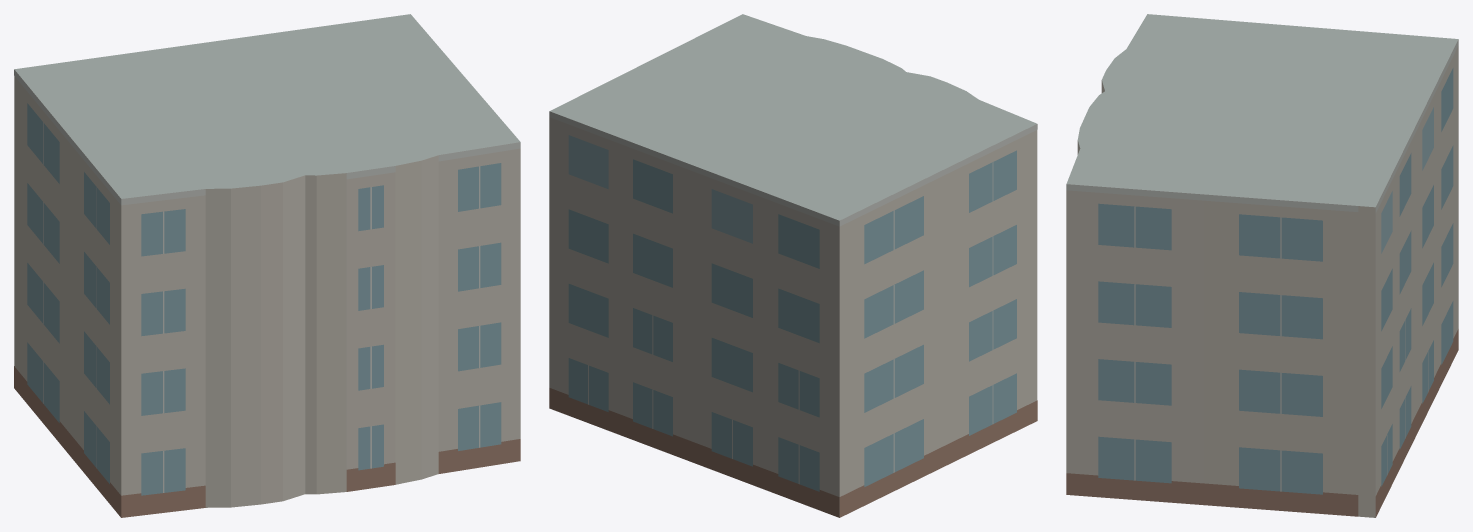
File: survey-upis-32744323.glb
The picture shows the model from 3 angles, left to right: view 1: azimuth 30°, elevation 25°; view 2: azimuth 150°, elevation 25°; view 3: azimuth 270°, elevation 25°; orthographic projection. The views are drawn at different scales.
Parts seen in each view (by area): view 1: survey-upis-32744323.tmp; view 2: survey-upis-32744323.tmp; view 3: survey-upis-32744323.tmp.
Part boxes in pixels (x1,y1,x2,y2): survey-upis-32744323.tmp: [14, 14, 520, 517]; survey-upis-32744323.tmp: [549, 14, 1037, 517]; survey-upis-32744323.tmp: [1066, 14, 1458, 517].
Bounding box in the file's own units: 16.28 × 12.2 × 13.97.
